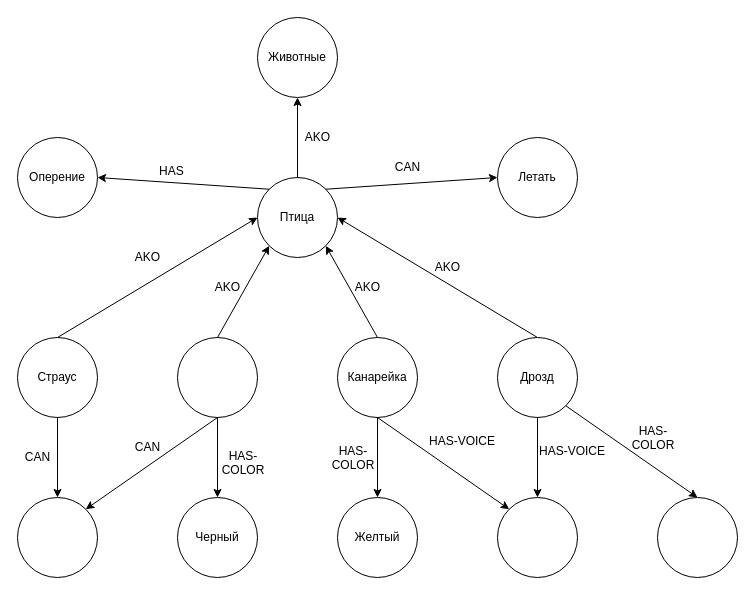
Some shapes in this 755 by 595 pixel diagram are drawn without their labels. The shapes that lost their labels are listed below. From the top down, each one's box as (x1, y1, x2, y2) in pixels, then its label:
(176, 336, 258, 418): Пингвин
(16, 496, 98, 578): Ходить
(496, 496, 578, 578): Петь
(656, 496, 738, 578): Коричневый
